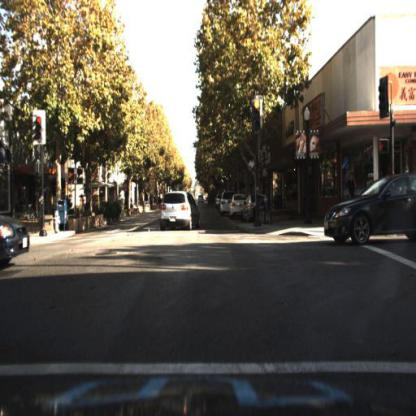car: (321, 166, 415, 251), (319, 175, 416, 243), (1, 184, 39, 281), (160, 188, 194, 240), (228, 194, 248, 222)
pedestrian: (349, 173, 359, 214), (348, 171, 356, 202)
trafficLight-Red: (32, 111, 46, 145), (252, 97, 262, 133), (34, 112, 44, 143)
